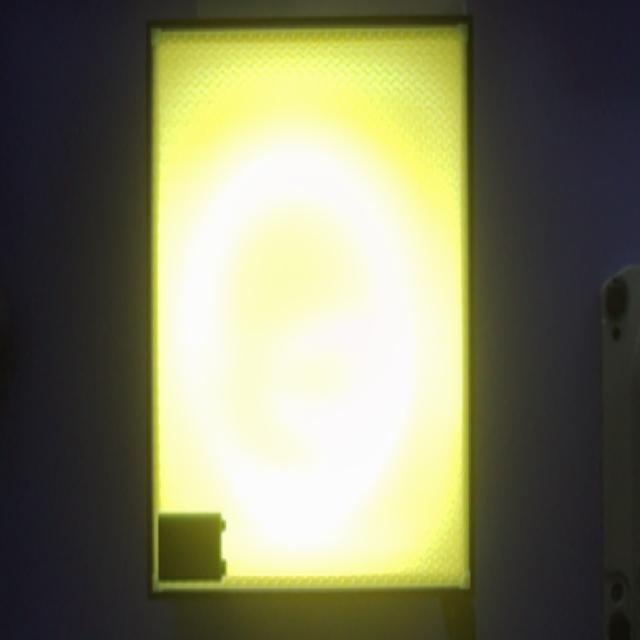bateria: (158, 510, 226, 581)
mesa: (147, 17, 474, 601)
